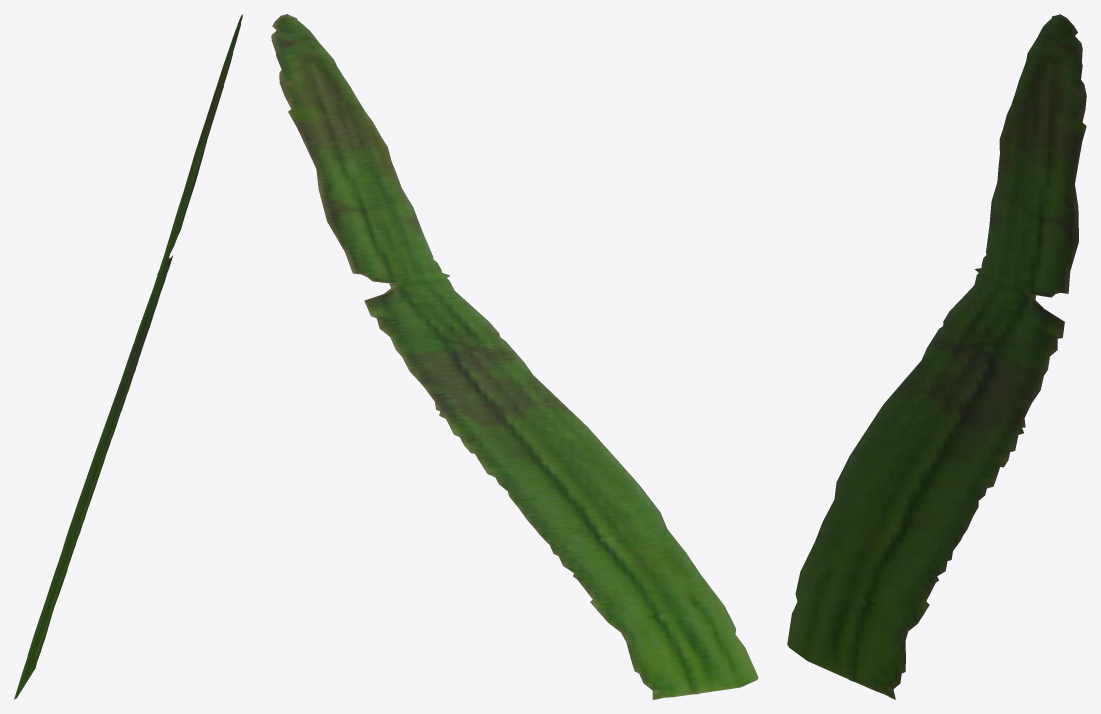
The model's file is grass.glb.
3 renders of one model, left to right at view 1: azimuth 30°, elevation 25°; view 2: azimuth 150°, elevation 25°; view 3: azimuth 270°, elevation 25°, orthographic. The views are drawn at different scales.
Parts seen in each view (by area): view 1: grass var.008; view 2: grass var.008; view 3: grass var.008.
Part boxes in pixels (x1,y1,x2,y2): grass var.008: (14,14,242,699); grass var.008: (271,14,758,699); grass var.008: (787,14,1086,699).
Size of the model in its own units: 1.67 by 2.76 by 0.8439.
Materials: 1 (1 with a texture image).
